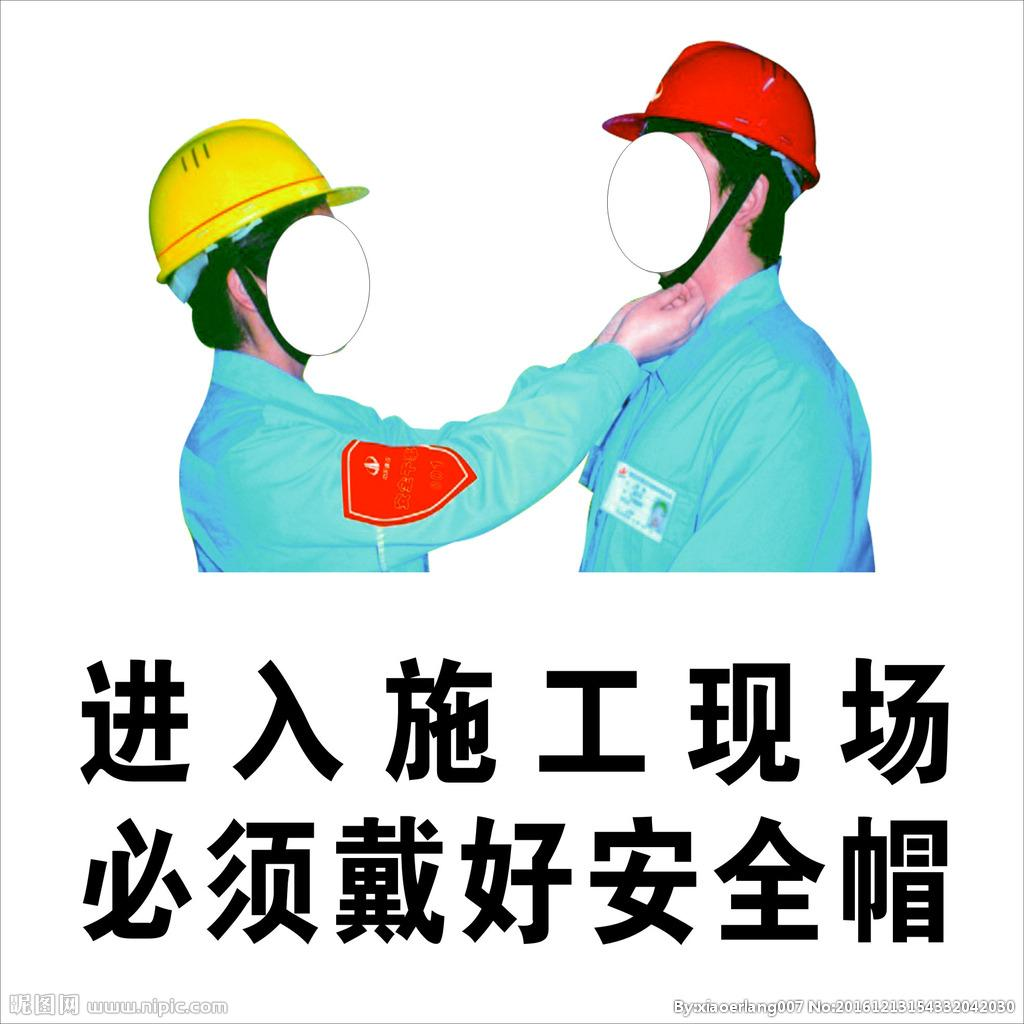helmet: (141, 118, 363, 300), (600, 40, 832, 180)
